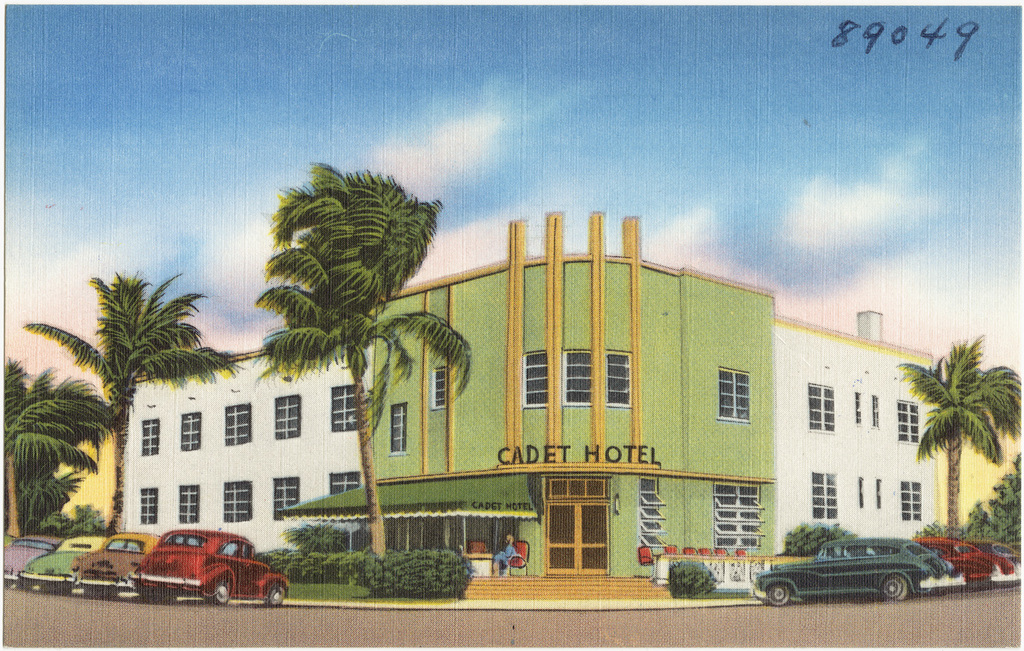cars: (755, 534, 954, 608), (122, 539, 276, 615), (72, 531, 160, 597), (907, 536, 1018, 585), (19, 535, 106, 595), (2, 530, 65, 589), (963, 536, 1023, 581), (0, 531, 15, 547), (1009, 540, 1022, 555)
